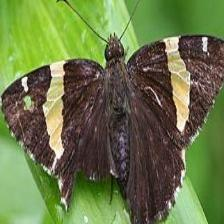butterfly: (2, 35, 222, 224)
